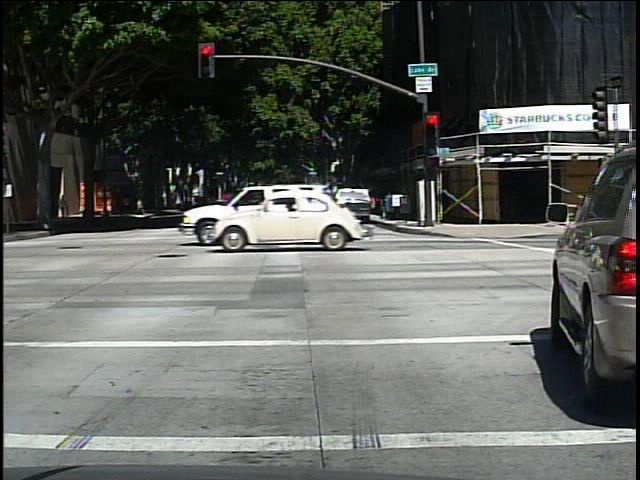person: (59, 190, 71, 223)
